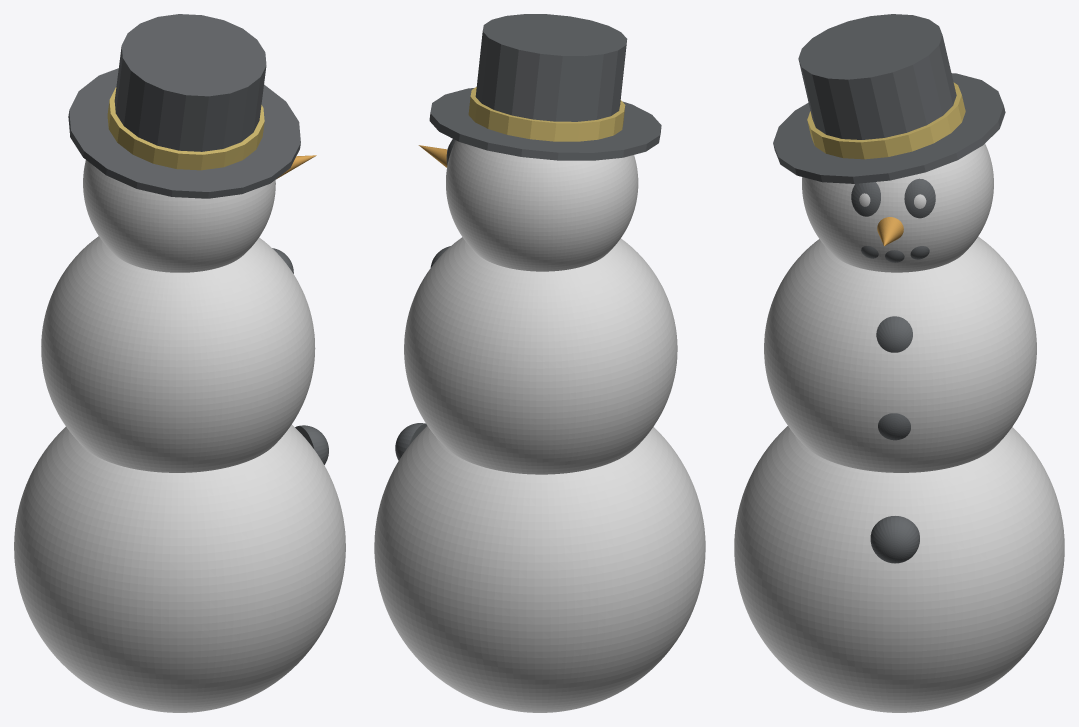
Rendered from snowman.glb.
3 renders of one model, left to right at view 1: azimuth 30°, elevation 25°; view 2: azimuth 150°, elevation 25°; view 3: azimuth 270°, elevation 25°, orthographic.
Visible parts, largest first — view 1: Mesh_Mesh_head_geo.001_lambert2SG.001; view 2: Mesh_Mesh_head_geo.001_lambert2SG.001; view 3: Mesh_Mesh_head_geo.001_lambert2SG.001.
Boxes of the visible parts, <box> form: Mesh_Mesh_head_geo.001_lambert2SG.001: <box>14,14,345,712</box>; Mesh_Mesh_head_geo.001_lambert2SG.001: <box>374,14,705,712</box>; Mesh_Mesh_head_geo.001_lambert2SG.001: <box>734,14,1064,712</box>.
Size of the model in its own units: 0.0327 by 0.0723 by 0.0327.
